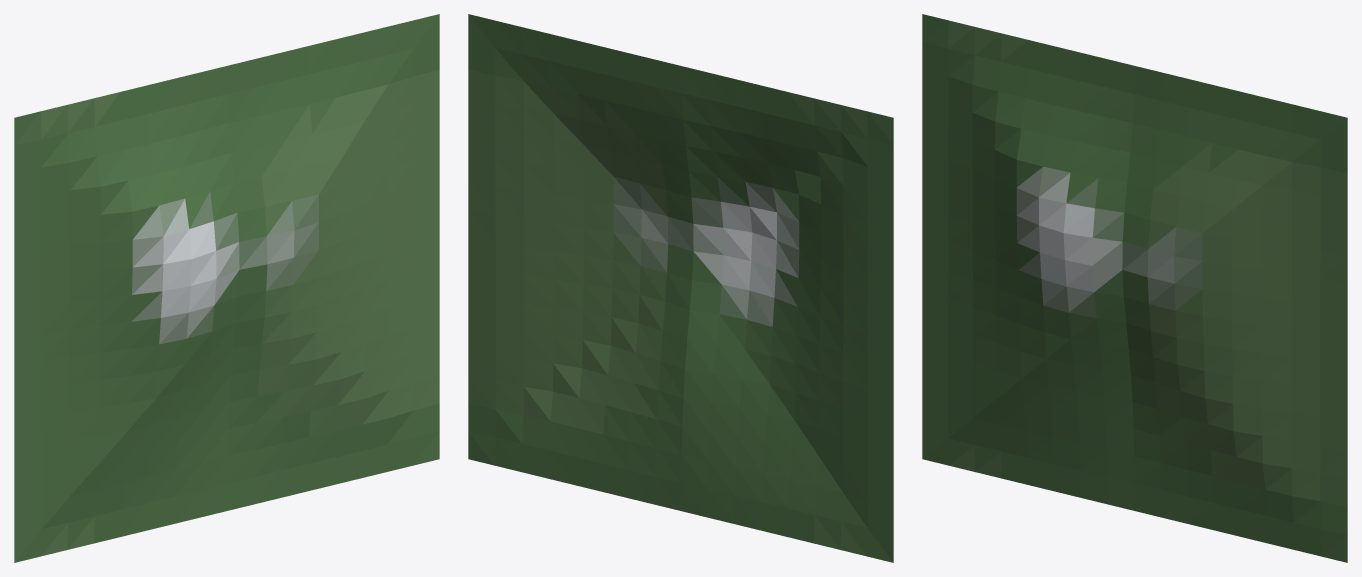
File: shape_080_SVN_Terrain_0.glb
3 renders of one model, left to right at view 1: azimuth 30°, elevation 25°; view 2: azimuth 150°, elevation 25°; view 3: azimuth 330°, elevation 25°, orthographic.
Parts seen in each view (by area): view 1: SVN terrain 0; view 2: SVN terrain 0; view 3: SVN terrain 0.
Part boxes in pixels (x1,y1,x2,y2): SVN terrain 0: [14, 14, 439, 562]; SVN terrain 0: [468, 14, 893, 562]; SVN terrain 0: [922, 14, 1347, 562].
Bounding box in the file's own units: 4096 × 4096 × 304.
